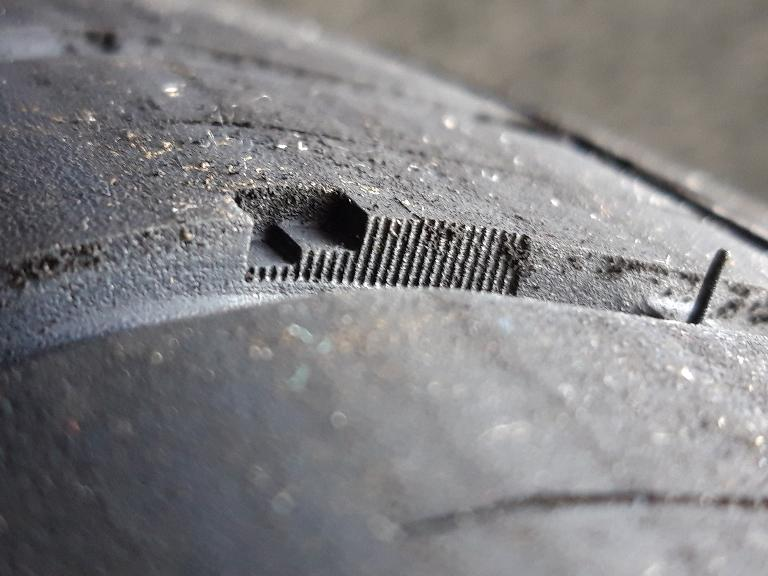temoin:50: (220, 177, 430, 298)
